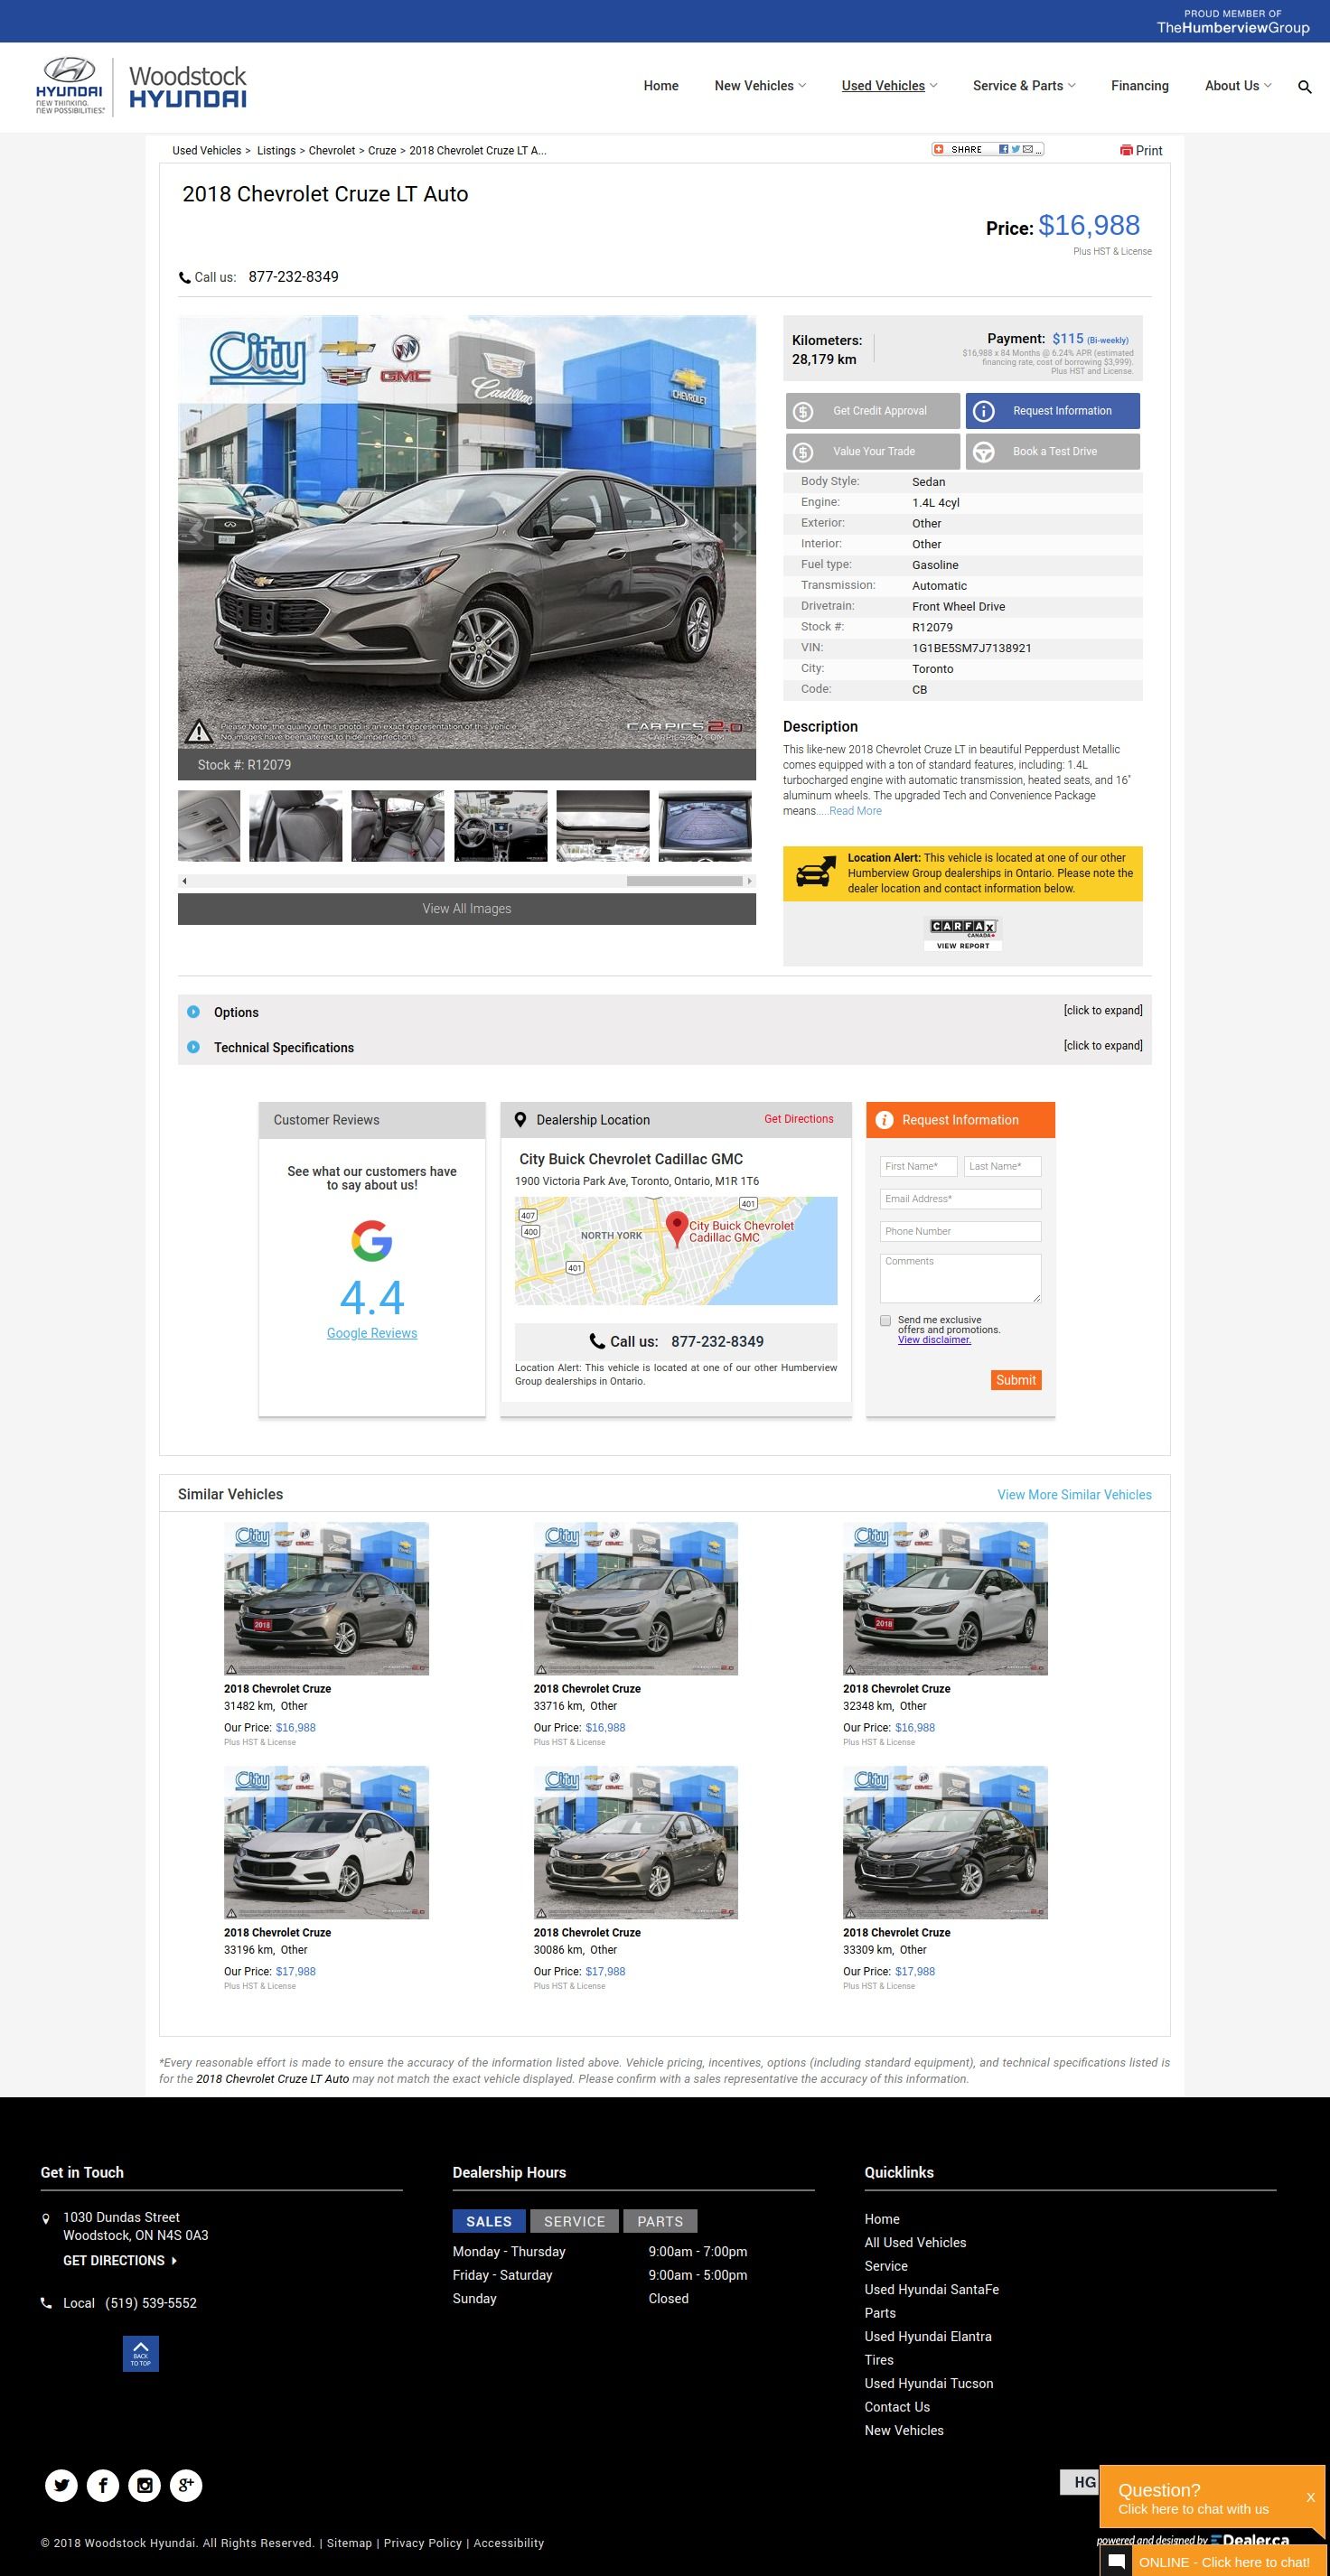car: (748, 878, 753, 885)
